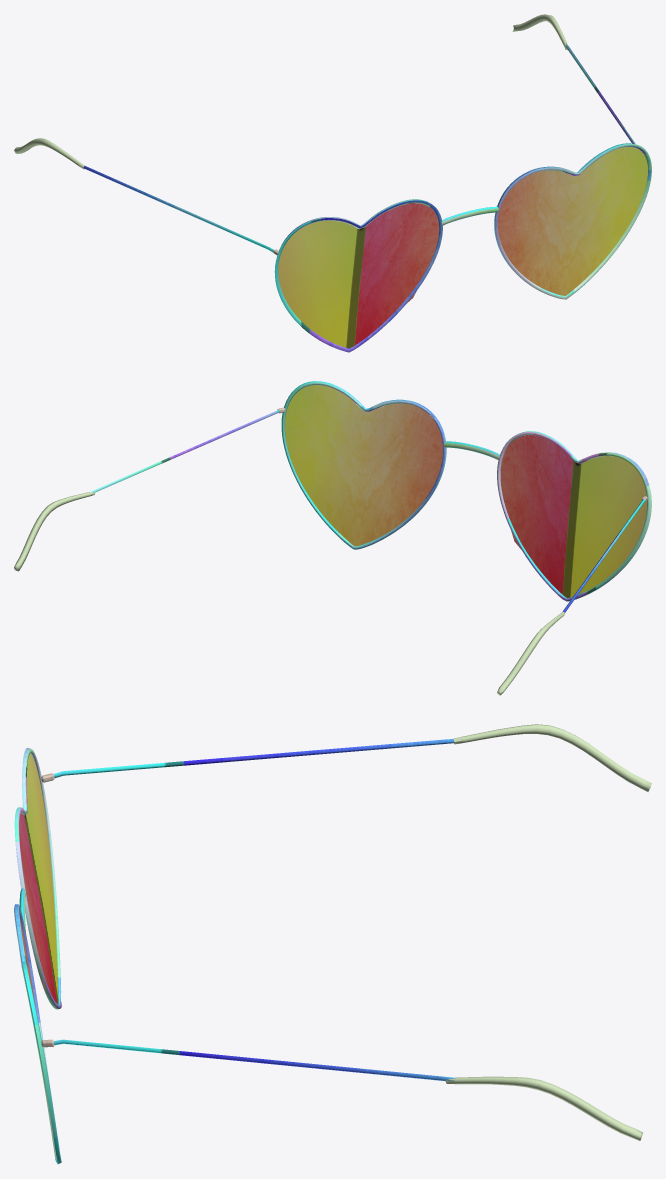
File: Glasses_Girl.fbx
3 renders of one model, top to bottom at view 1: azimuth 30°, elevation 25°; view 2: azimuth 150°, elevation 25°; view 3: azimuth 270°, elevation 25°, orthographic. The views are drawn at different scales.
Visible parts, largest first — view 1: Glasses; view 2: Glasses; view 3: Glasses.
Part boxes in pixels (x1,y1,x2,y2): Glasses: (14, 14, 651, 352); Glasses: (14, 381, 651, 695); Glasses: (14, 724, 651, 1164).
Bounding box in the file's own units: 50.54 × 14.45 × 37.31.
